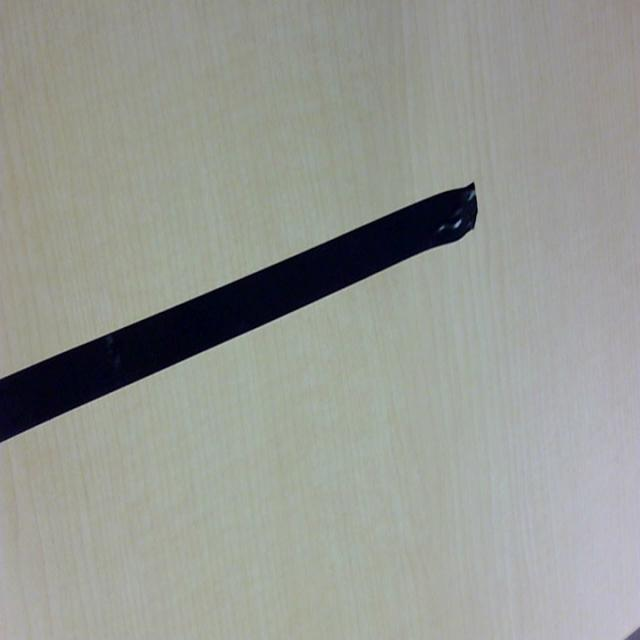tape: (0, 181, 479, 443)
